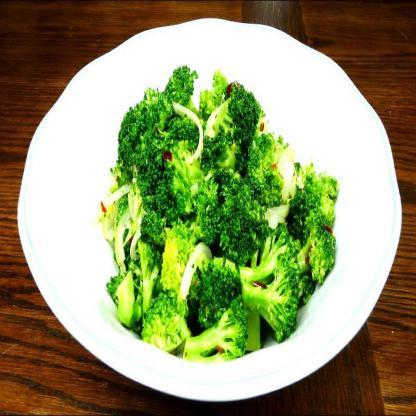broccoli: (95, 54, 338, 364)
